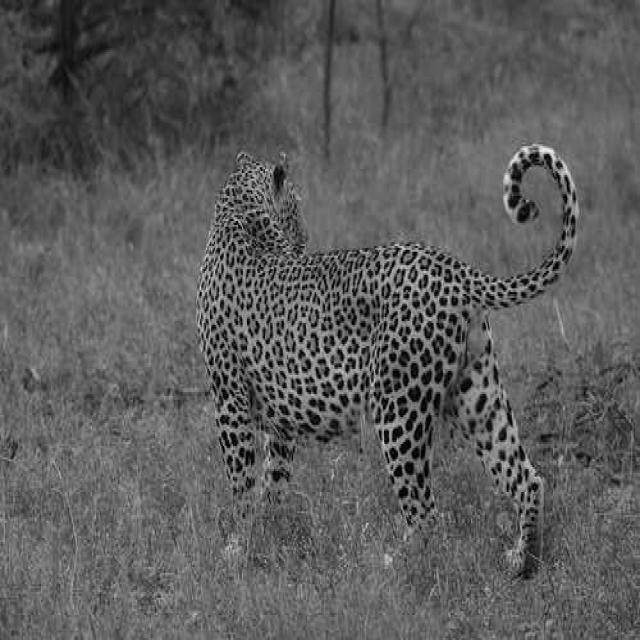Leopard: (197, 142, 609, 608)
